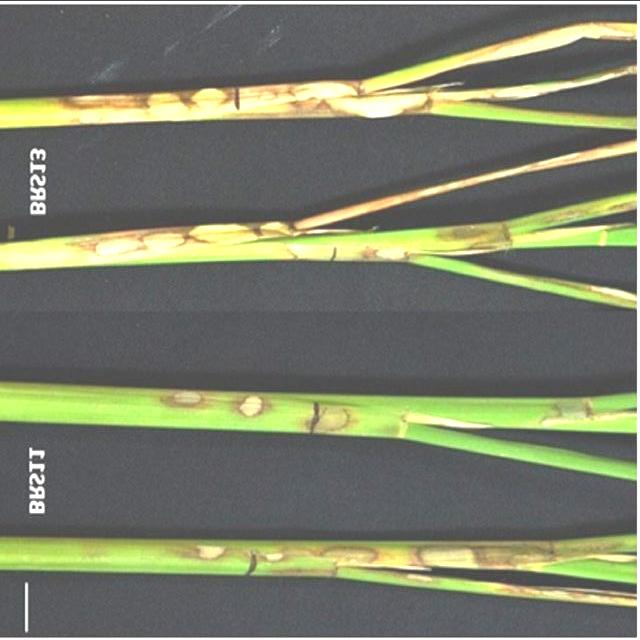Bacterial_Leaf_Blight: (59, 75, 436, 124), (78, 218, 413, 262), (189, 540, 556, 568), (156, 387, 358, 432), (457, 21, 638, 68), (538, 396, 603, 426)
